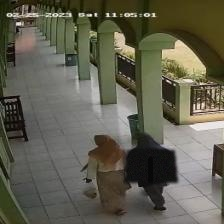Cadar_Niqab: (124, 132, 177, 182)
